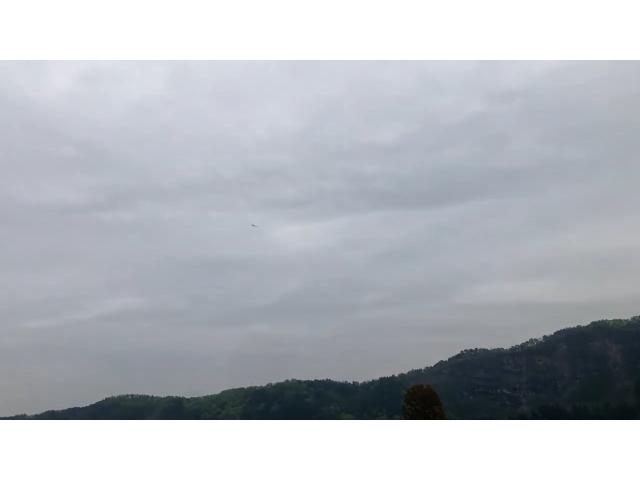Anti-Drone: (242, 218, 262, 234)
